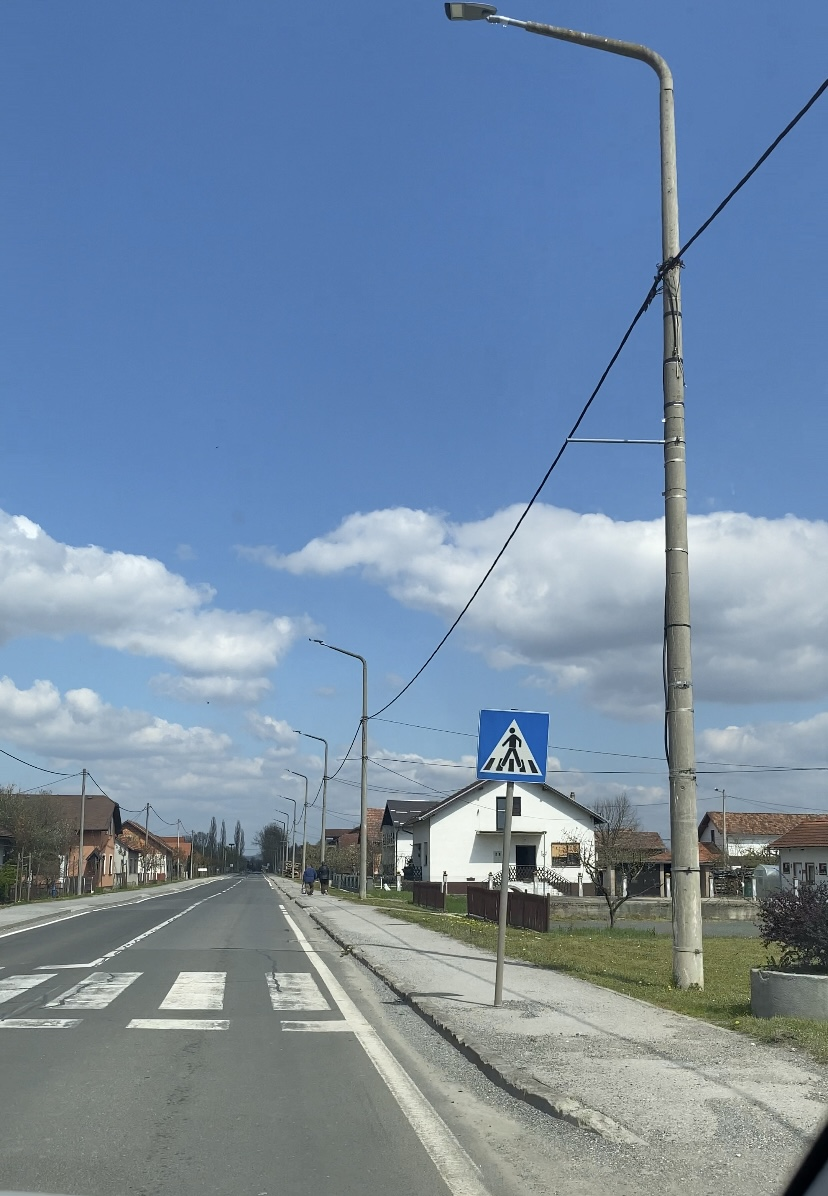Pješački prijelaz: (476, 709, 550, 783)
